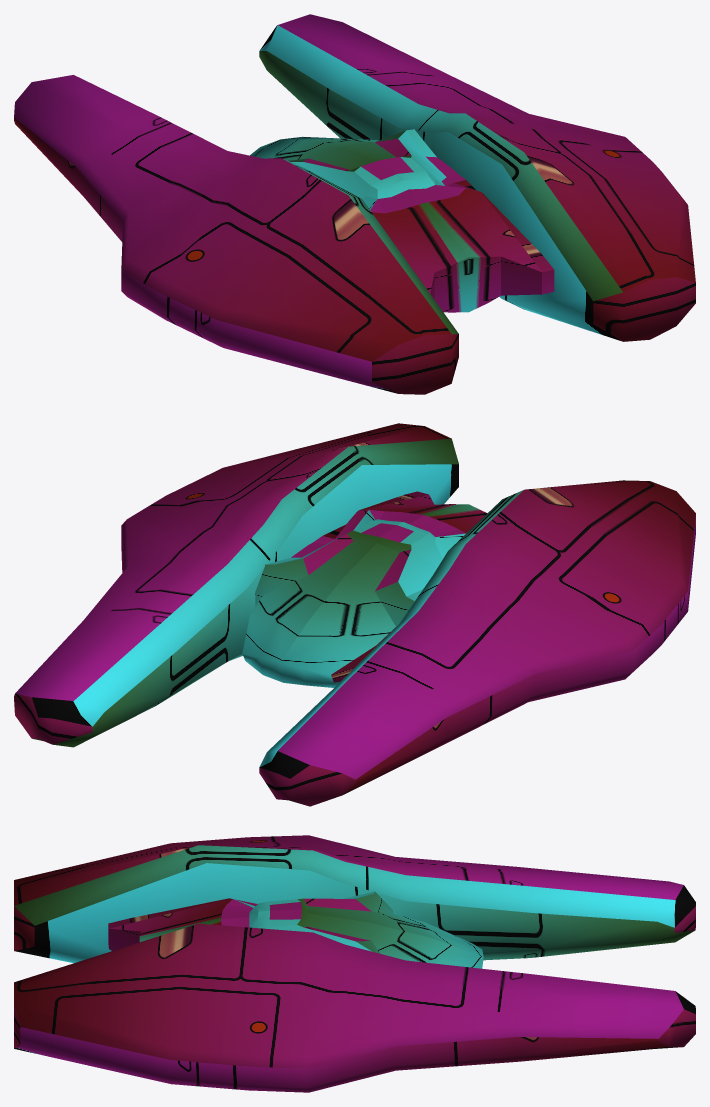
Rendered from SpectralModel.fbx.
The picture shows the model from 3 angles, top to bottom: view 1: azimuth 30°, elevation 25°; view 2: azimuth 150°, elevation 25°; view 3: azimuth 270°, elevation 25°; orthographic projection. The views are drawn at different scales.
Visible parts, largest first — view 1: SpectralModel; view 2: SpectralModel; view 3: SpectralModel.
Boxes of the visible parts, box(x1,y1,x2,y2) form: SpectralModel: box(14, 14, 695, 394); SpectralModel: box(14, 423, 695, 806); SpectralModel: box(14, 835, 695, 1092).
Bounding box in the file's own units: 98.57 × 28.96 × 124.
